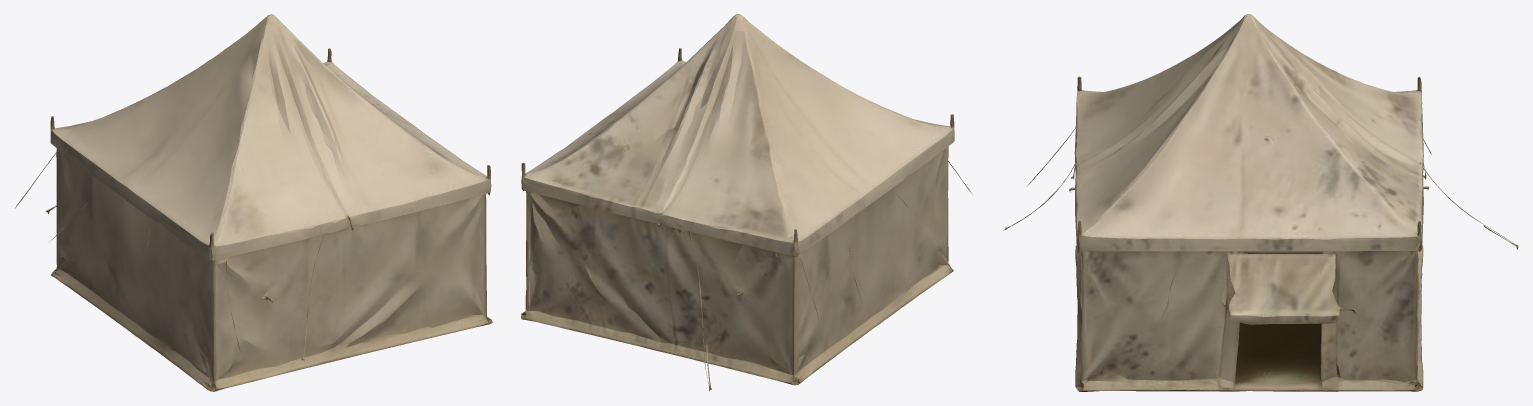
File: tent_military.glb
3 views of the same model, side by side, from view 1: azimuth 30°, elevation 25°; view 2: azimuth 150°, elevation 25°; view 3: azimuth 270°, elevation 25° (orthographic). The views are drawn at different scales.
Visible parts, largest first — view 1: tent_military; view 2: tent_military; view 3: tent_military.
Boxes of the visible parts, bbox=[...] form: tent_military: bbox=[15, 14, 492, 391]; tent_military: bbox=[521, 14, 972, 391]; tent_military: bbox=[1003, 14, 1518, 391].
Size of the model in its own units: 4.94 by 3.89 by 6.
Materials: 1 (1 with a texture image).
